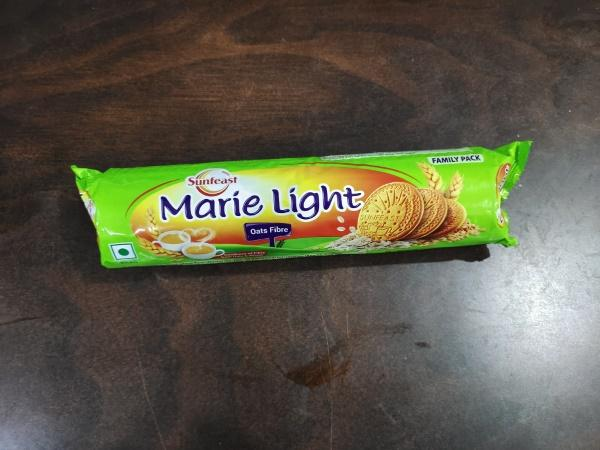MarieLight: (58, 140, 532, 274)
